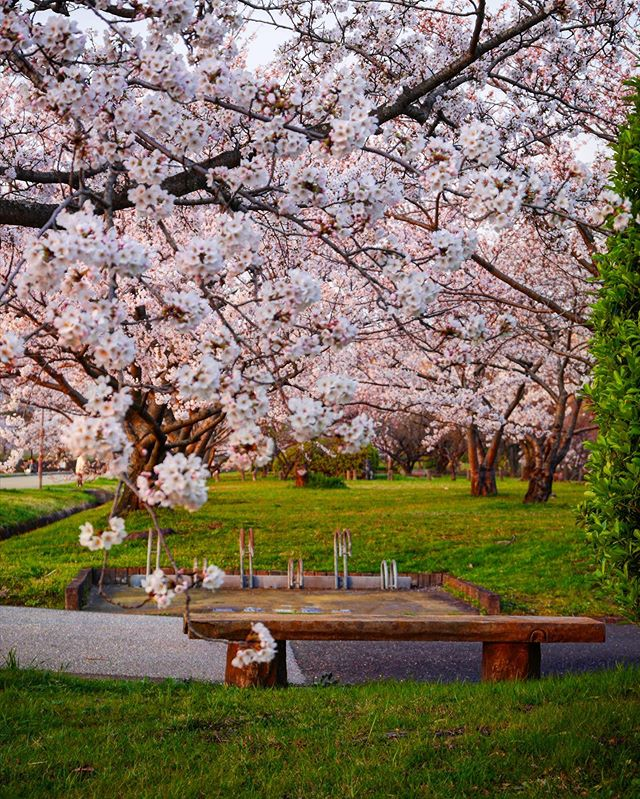bench: (159, 599, 640, 721)
flowers: (1, 1, 503, 463)
grass: (6, 685, 640, 799), (1, 489, 612, 600)
